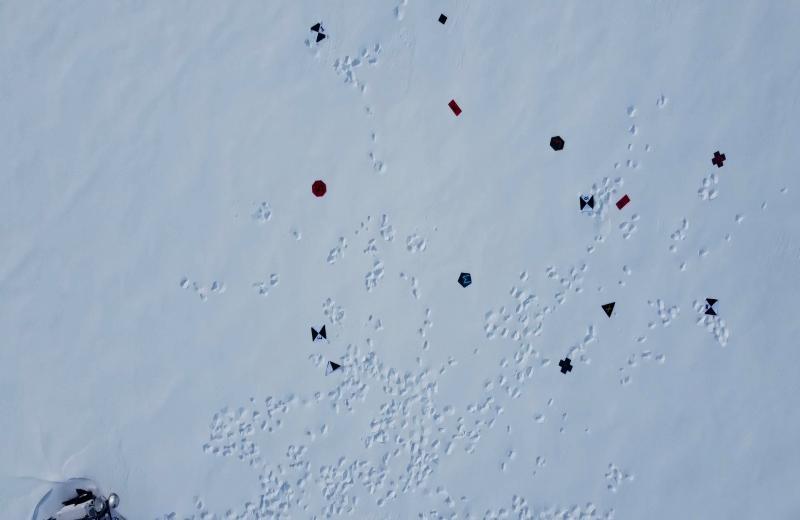Cross: (557, 355, 575, 374), (710, 150, 727, 168)
Hexagon: (550, 135, 566, 153)
Octagon: (311, 178, 328, 198)
Pentagon: (457, 270, 474, 290)
Rectangle: (447, 97, 463, 119), (615, 192, 631, 212)
Square: (438, 12, 448, 26)
Triangle: (600, 301, 618, 318)
